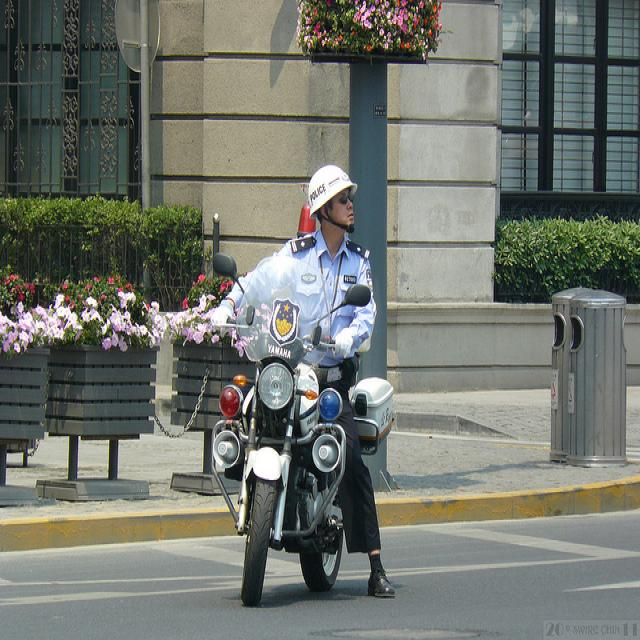motor: (201, 247, 404, 613)
